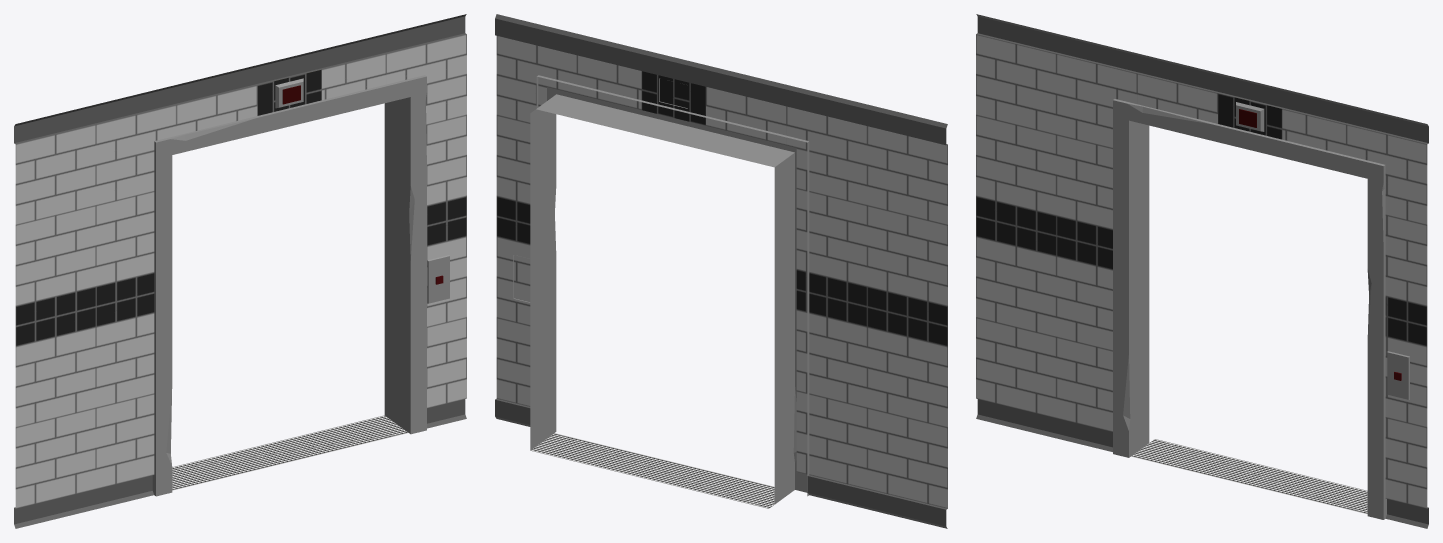
File: SW_ENV_Elevator_WallOpening_FF.fbx
3 views of the same model, side by side, from view 1: azimuth 30°, elevation 25°; view 2: azimuth 150°, elevation 25°; view 3: azimuth 330°, elevation 25° (orthographic).
Visible parts, largest first — view 1: SW_ENV_Elevator_WallOpening_FF; view 2: SW_ENV_Elevator_WallOpening_FF; view 3: SW_ENV_Elevator_WallOpening_FF.
Boxes of the visible parts, x1=… form: SW_ENV_Elevator_WallOpening_FF: x1=14, y1=14, x2=466, y2=528; SW_ENV_Elevator_WallOpening_FF: x1=495, y1=14, x2=947, y2=528; SW_ENV_Elevator_WallOpening_FF: x1=976, y1=14, x2=1428, y2=528.
Bounding box in the file's own units: 350 × 300 × 35.73.
